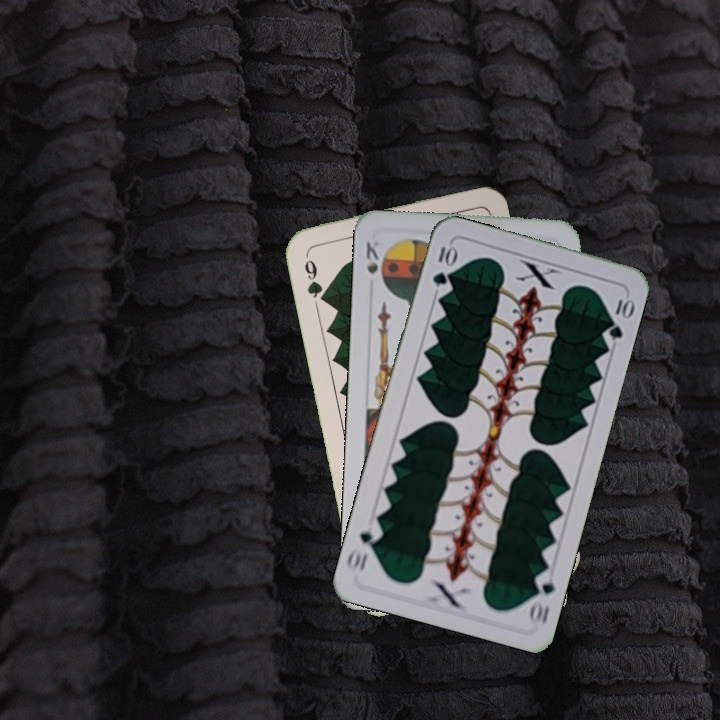G10: (525, 567, 558, 627), (428, 240, 459, 289)
G9: (300, 248, 329, 305)
SK: (362, 237, 382, 277)
